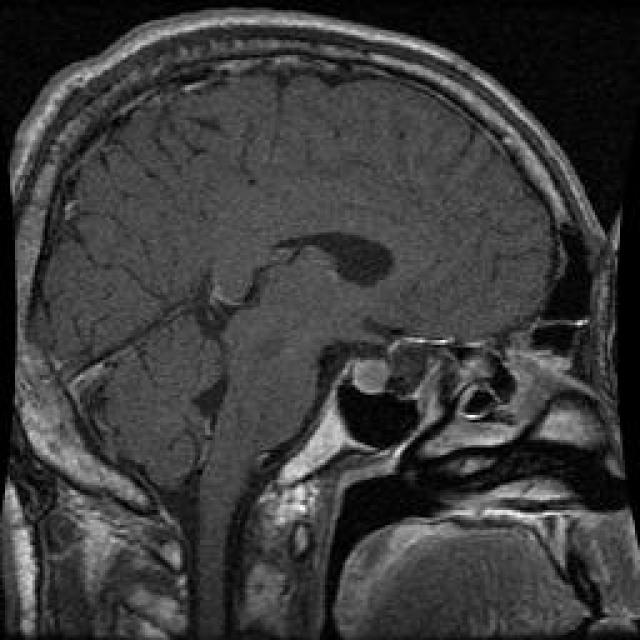pituitary: (334, 344, 410, 426)
